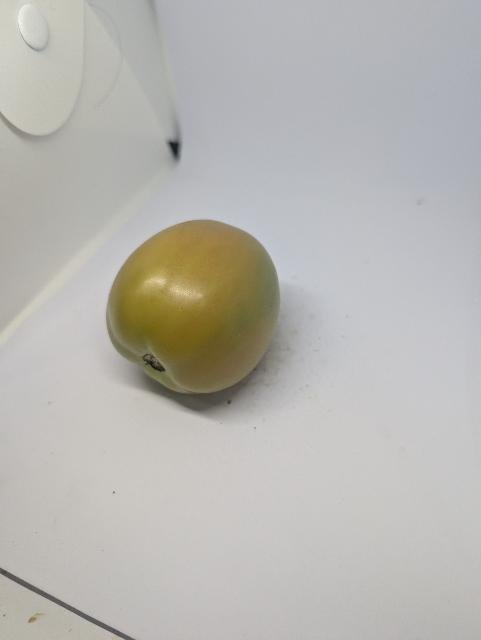breaker: (107, 220, 280, 393)
